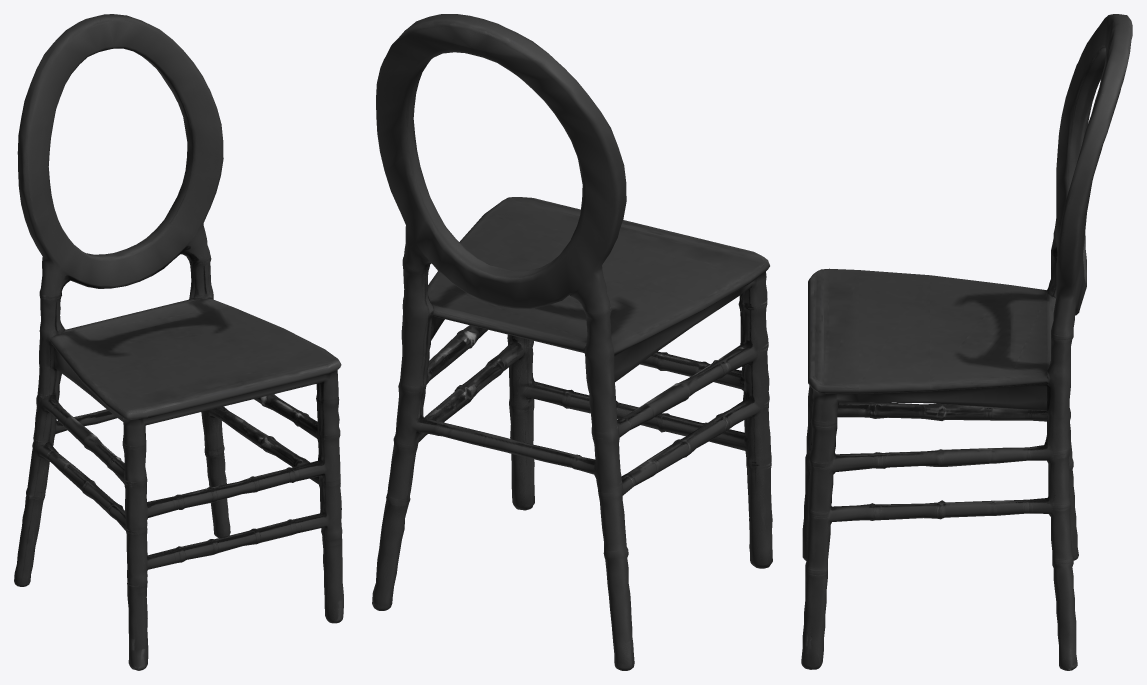
File: Chair_Hollow_O_Back__0320031811_texture.glb
The picture shows the model from 3 angles, left to right: view 1: azimuth 30°, elevation 25°; view 2: azimuth 150°, elevation 25°; view 3: azimuth 270°, elevation 25°; orthographic projection. The views are drawn at different scales.
Parts seen in each view (by area): view 1: Mesh_0.006; view 2: Mesh_0.006; view 3: Mesh_0.006.
Part boxes in pixels (x1=…): Mesh_0.006: x1=14, y1=14, x2=343, y2=670; Mesh_0.006: x1=372, y1=14, x2=772, y2=670; Mesh_0.006: x1=801, y1=14, x2=1132, y2=670.
Size of the model in its own units: 0.3962 by 0.9144 by 0.4638.
Materials: 1 (1 with a texture image).
